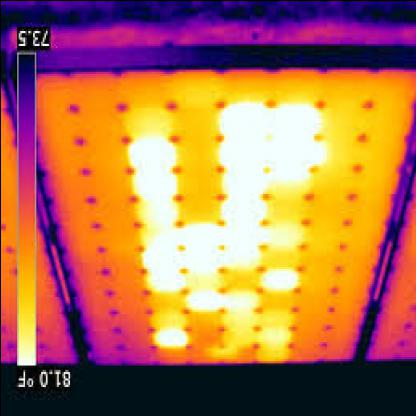Defects: (265, 133, 310, 165), (221, 105, 262, 137), (225, 161, 263, 189), (221, 197, 266, 219), (182, 244, 220, 270), (223, 225, 264, 249), (273, 107, 307, 135), (260, 268, 297, 292), (225, 141, 265, 163), (147, 268, 184, 290), (271, 160, 307, 180), (144, 248, 178, 268), (225, 246, 257, 266), (185, 227, 217, 247), (152, 222, 180, 244), (186, 289, 216, 309), (226, 287, 250, 311), (158, 330, 188, 348), (145, 202, 175, 218)
